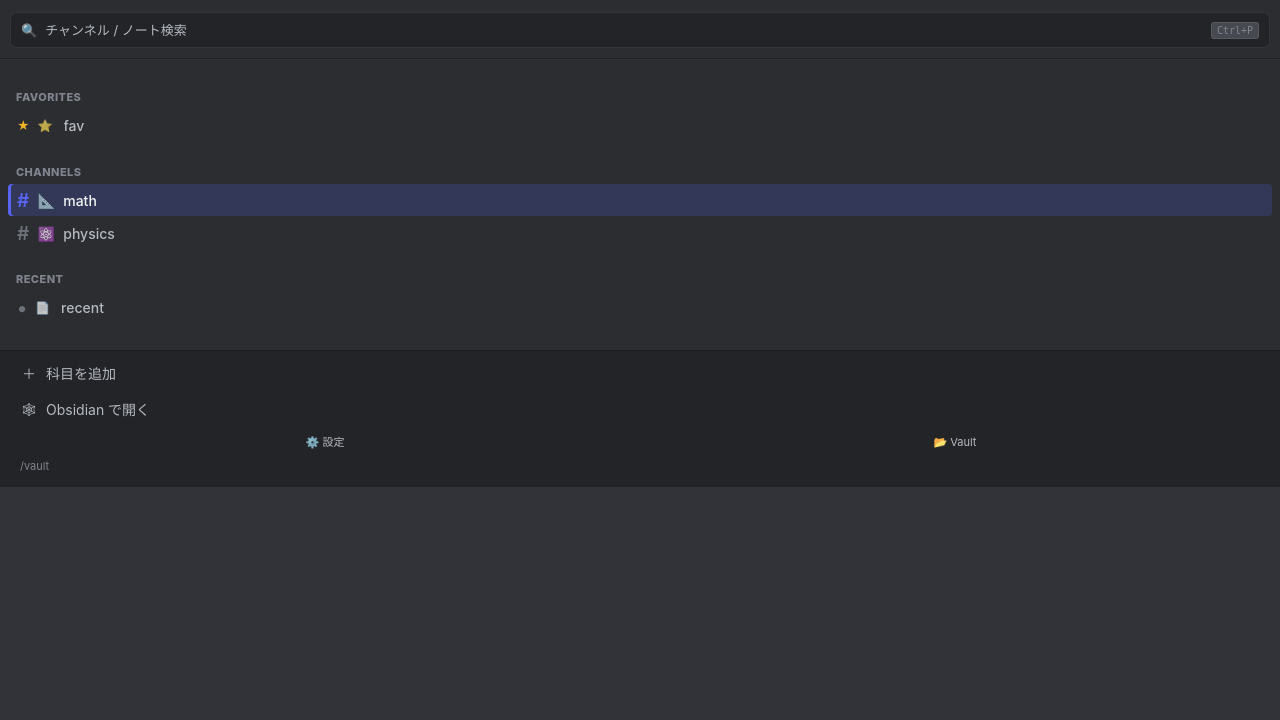
Scenario: Sidebar context menu actions › disables create button when name is empty
The image size is (1280, 720).
Click the text "科目を追加". click: (81, 374)
box: [46,364,116,383]
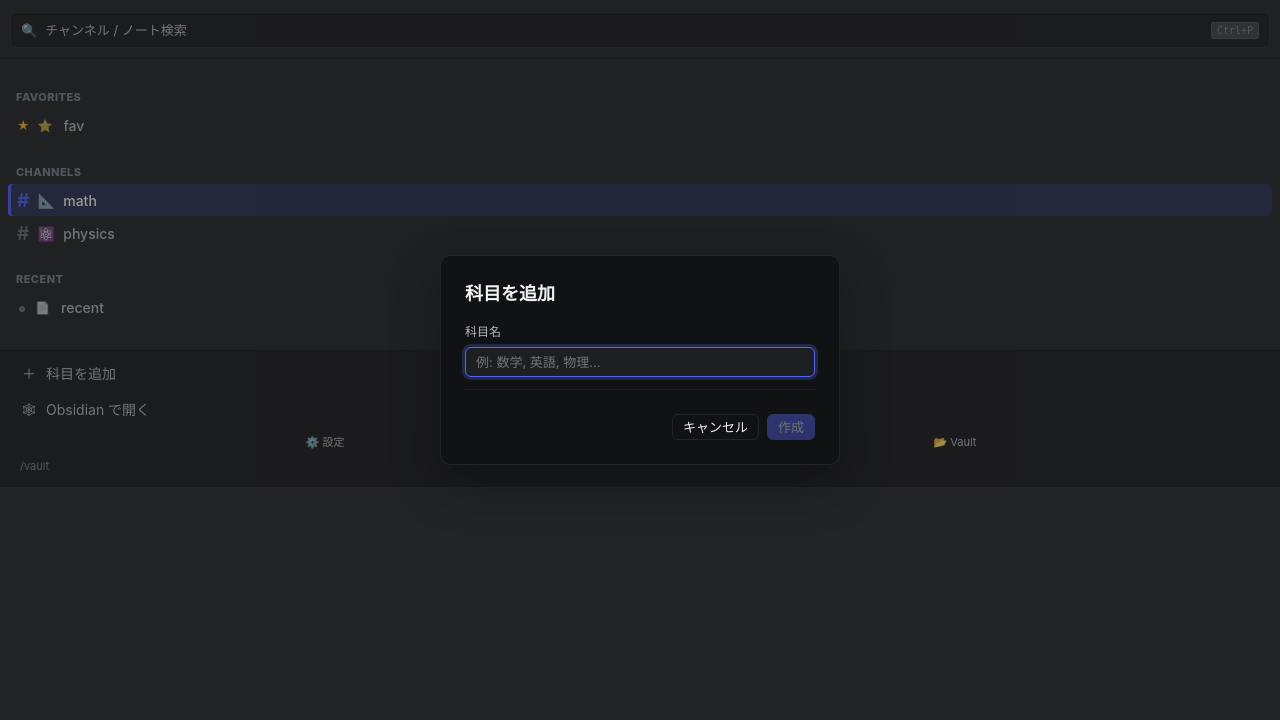
Expected: the button "作成" is disabled, [767,414,815,440]
